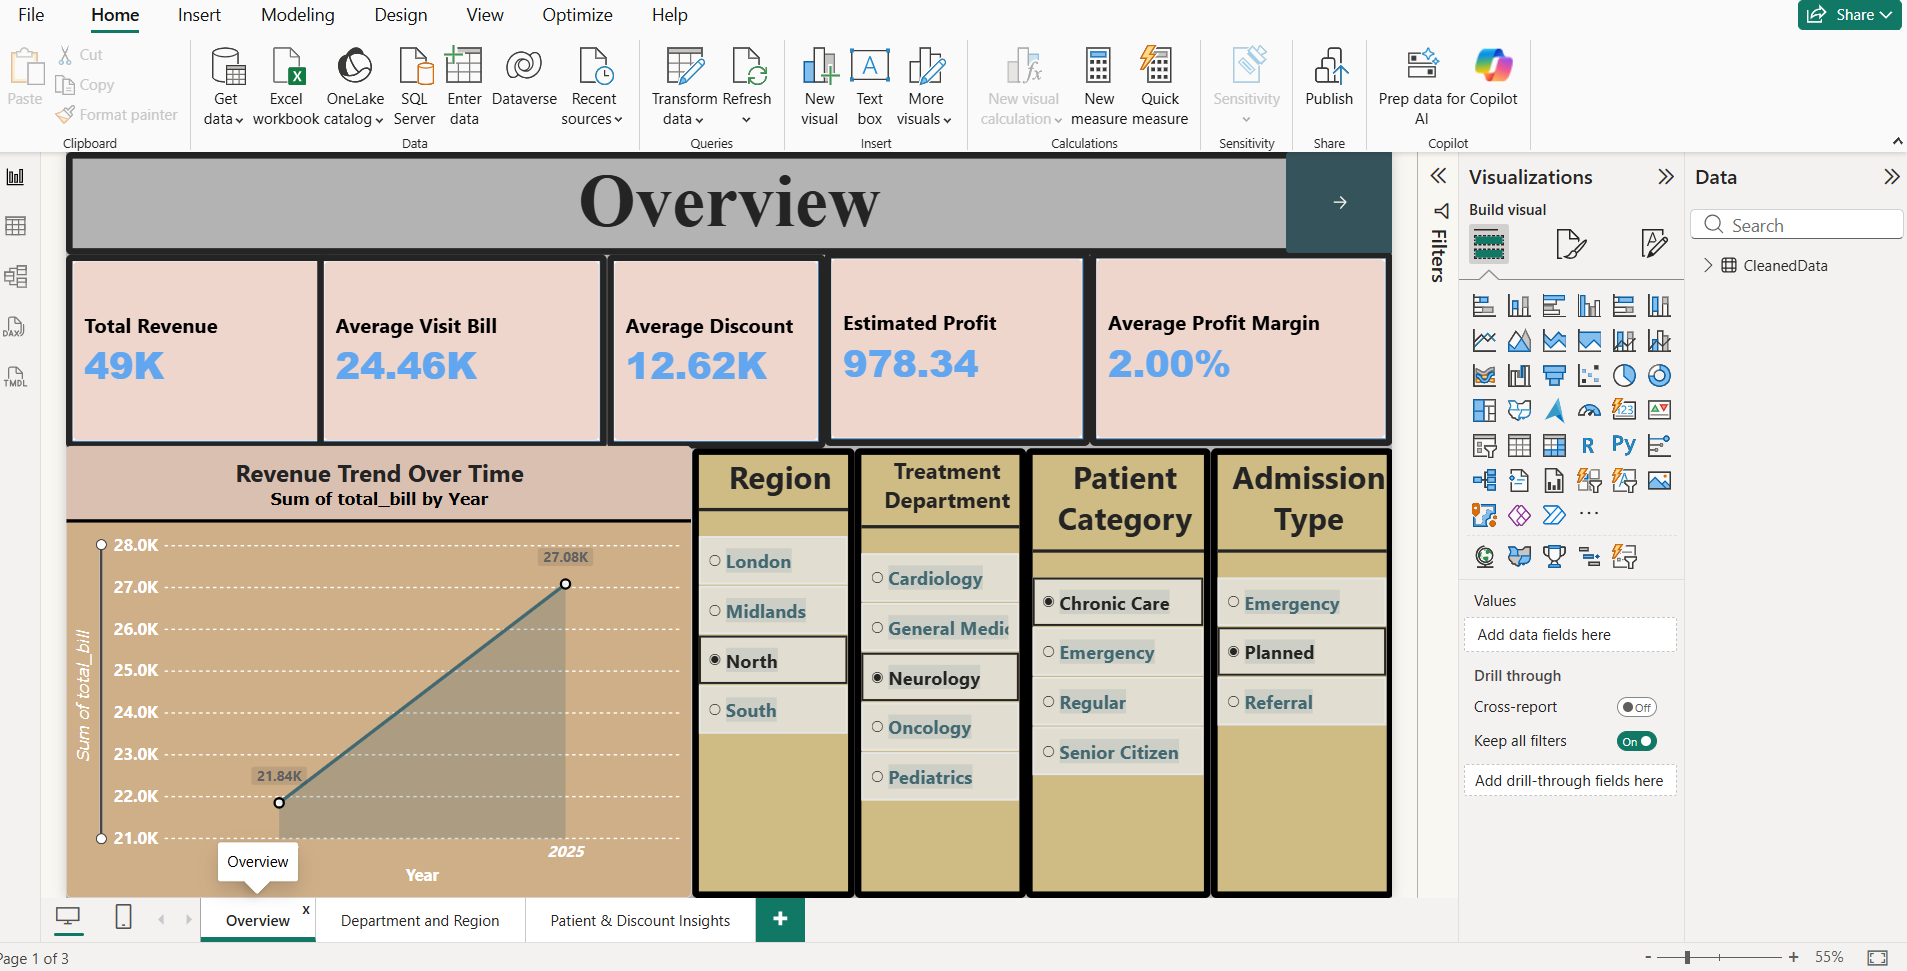

The page's visual inventory and layout, read from the dashboard file:
{"tool":"powerbi","page":{"name":"Overview","canvas":[1920,1080],"ordinal":0},"visuals":[{"type":"cardVisual","fields":{"Data":["CleanedData.Total Revenue"]},"box":[0,148.4,385.5,280.5],"z":0},{"type":"textbox","box":[0,0,1921.3,149],"z":1000},{"type":"cardVisual","fields":{"Data":["CleanedData.Estimated Profit"]},"box":[1099.3,145.1,383.6,280.5],"z":2000},{"type":"cardVisual","fields":{"Data":["CleanedData.Average Profit Margin"]},"box":[1482.9,145.1,438.4,280.5],"z":3000},{"type":"cardVisual","fields":{"Data":["CleanedData.Average Visit Bill"]},"box":[364.3,148.3,419.1,280.5],"z":4000},{"type":"cardVisual","fields":{"Data":["CleanedData.Average Discount"]},"box":[783.4,148.3,315.9,280.5],"z":5000},{"type":"lineChart","title":"Revenue Trend Over Time ","fields":{"Category":["CleanedData.admission_date.Variation.Date Hierarchy.Year","CleanedData.admission_date.Variation.Date Hierarchy.Quarter","CleanedData.admission_date.Variation.Date Hierarchy.Month","CleanedData.admission_date.Variation.Date Hierarchy.Day"],"Y":["Sum(CleanedData.total_bill)"]},"box":[0,425.5,905.9,654.4],"z":6000},{"type":"listSlicer","title":"Region","fields":{"Values":["CleanedData.region"]},"box":[905.9,428.7,235.3,651],"z":7000},{"type":"listSlicer","title":"Treatment Department","fields":{"Values":["CleanedData.treatment_department"]},"box":[1141.2,428.7,248.2,651.2],"z":8000},{"type":"listSlicer","title":"Patient Category","fields":{"Values":["CleanedData.patient_category"]},"box":[1389.4,428.7,267.6,651.2],"z":9000},{"type":"listSlicer","title":"Admission Type","fields":{"Values":["CleanedData.admission_type"]},"box":[1657,428.7,264.3,651.2],"z":10000},{"type":"actionButton","box":[1765.6,0,156.5,146.1],"z":11000}]}

Visuals, with their boxes on the page's 1920x1080 design canvas (x1, y1, x2, y2). These are canvas units, not pixel positions in the 1907x971 screenshot, which may show the page scaled, cropped or inside an application window:
cardVisual - CleanedData.Total Revenue: 0, 148, 386, 429
textbox: 0, 0, 1921, 149
cardVisual - CleanedData.Estimated Profit: 1099, 145, 1483, 426
cardVisual - CleanedData.Average Profit Margin: 1483, 145, 1921, 426
cardVisual - CleanedData.Average Visit Bill: 364, 148, 783, 429
cardVisual - CleanedData.Average Discount: 783, 148, 1099, 429
"Revenue Trend Over Time " lineChart: 0, 426, 906, 1080
"Region" listSlicer: 906, 429, 1141, 1080
"Treatment Department" listSlicer: 1141, 429, 1389, 1080
"Patient Category" listSlicer: 1389, 429, 1657, 1080
"Admission Type" listSlicer: 1657, 429, 1921, 1080
actionButton: 1766, 0, 1922, 146
